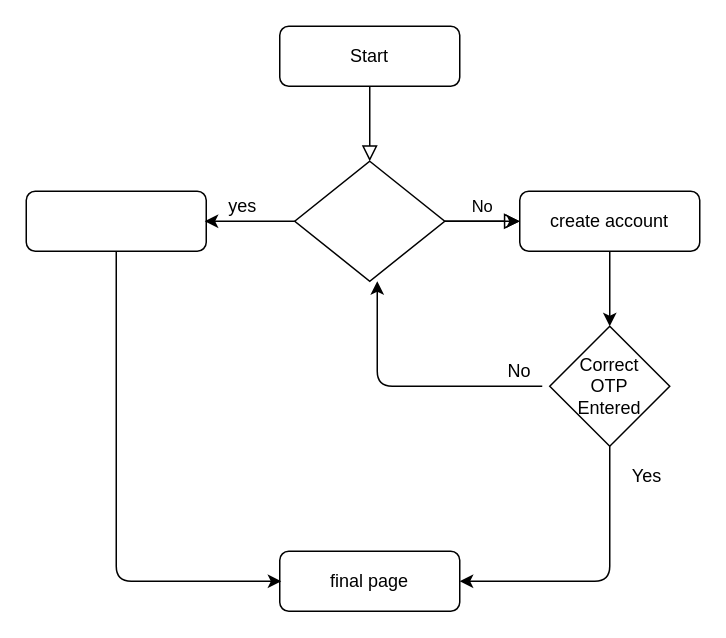
This 726x638 diagram has some shape labels left out. The centre of each missing label's shape, as x and y in pixels:
have account ?: the point at 369,220
Login: the point at 115,220
